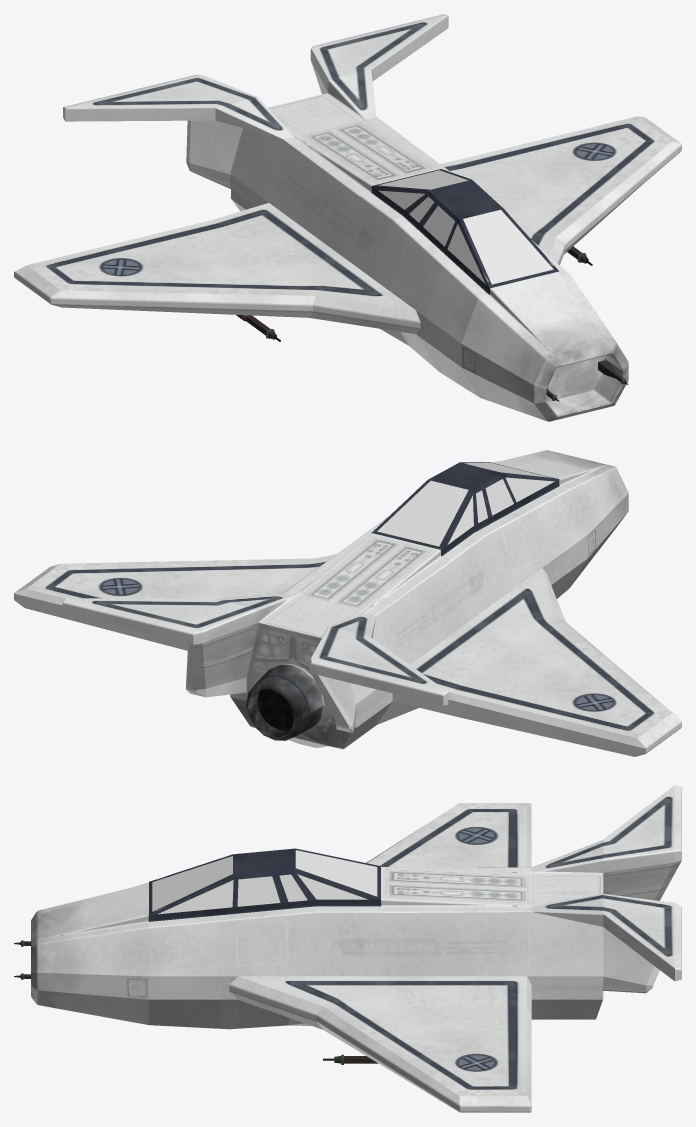
The model's file is SSCInterceptor.fbx.
The picture shows the model from 3 angles, top to bottom: view 1: azimuth 30°, elevation 25°; view 2: azimuth 150°, elevation 25°; view 3: azimuth 270°, elevation 25°; orthographic projection.
Visible parts, largest first — view 1: SSCInterceptorBody_LOD0, SSCInterceptorCockpit_LOD0, SSCInterceptorArmaments_LOD0; view 2: SSCInterceptorBody_LOD0, SSCInterceptorCockpit_LOD0; view 3: SSCInterceptorBody_LOD0, SSCInterceptorCockpit_LOD0, SSCInterceptorArmaments_LOD0.
Boxes of the visible parts, <box> form: SSCInterceptorBody_LOD0: <box>14,14,681,421</box>; SSCInterceptorCockpit_LOD0: <box>372,169,558,288</box>; SSCInterceptorArmaments_LOD0: <box>236,246,628,401</box>; SSCInterceptorBody_LOD0: <box>14,450,681,756</box>; SSCInterceptorCockpit_LOD0: <box>372,462,558,549</box>; SSCInterceptorBody_LOD0: <box>31,785,681,1112</box>; SSCInterceptorCockpit_LOD0: <box>149,848,380,914</box>; SSCInterceptorArmaments_LOD0: <box>14,940,378,1064</box>.
Size of what is drawn, in the model's own units: 1000 by 237 by 932.
